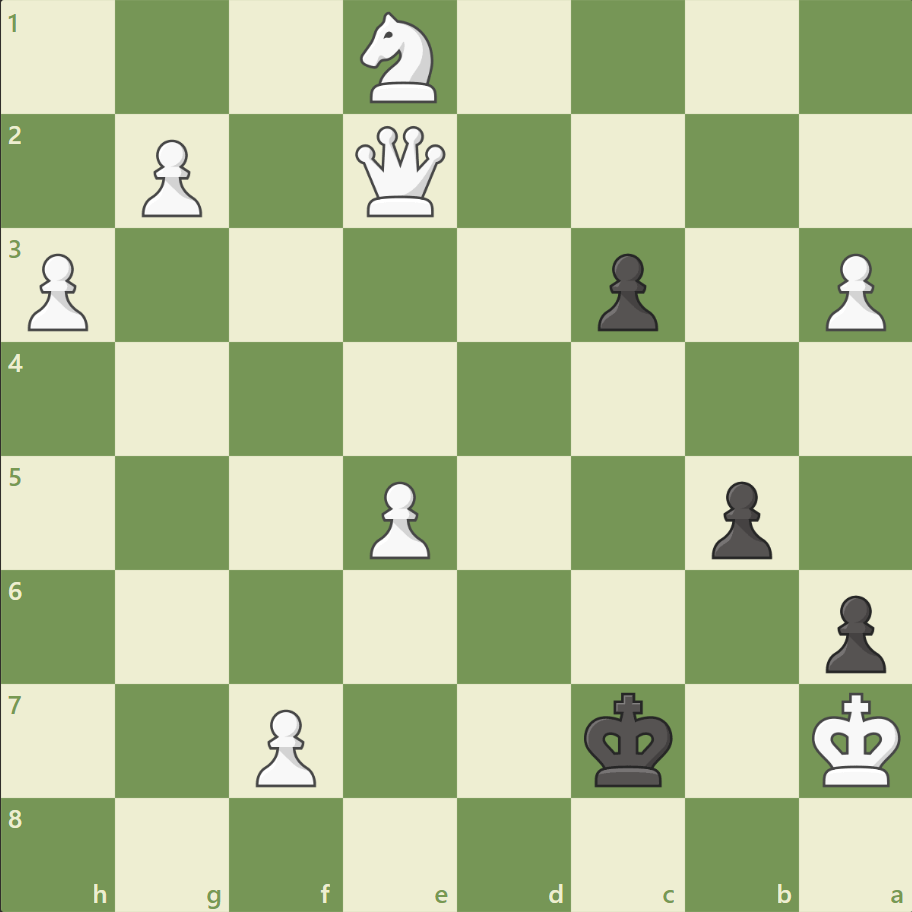K: (806, 685, 906, 793)
N: (351, 7, 449, 110)
P: (247, 700, 322, 791), (20, 246, 95, 337), (133, 132, 208, 223), (361, 473, 435, 564), (815, 246, 889, 337)
Q: (351, 122, 450, 222)
k: (579, 685, 679, 793)
p: (701, 473, 776, 564), (815, 586, 889, 677), (588, 246, 662, 337)
